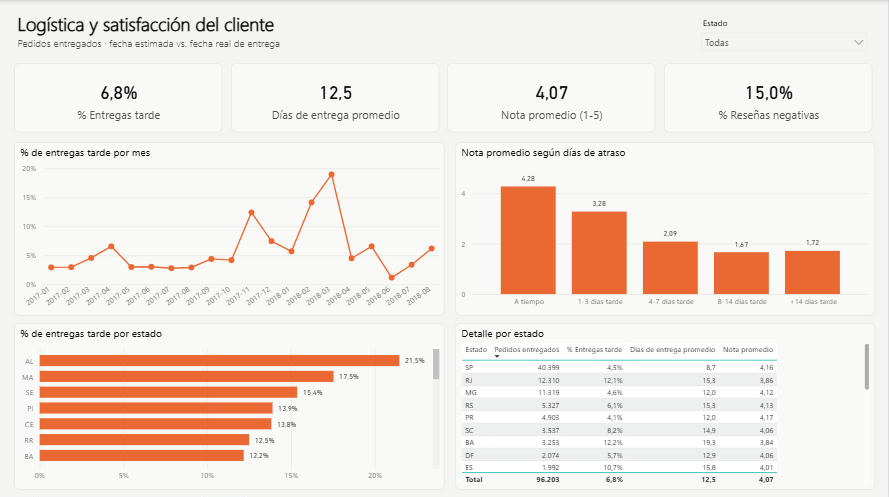

This screenshot's page, from the dashboard's own definition file:
{"tool":"powerbi","page":{"name":"Logística y satisfacción","canvas":[1280,720],"ordinal":1},"visuals":[{"type":"textbox","box":[20,10,900,70],"z":1000},{"type":"slicer","fields":{"Values":["orders.customer_state"]},"box":[1000,18,260,60],"z":2000},{"type":"card","title":"% Entregas tarde","fields":{"Values":["_Medidas.% Entregas tarde"]},"box":[20,90,300,100],"z":3000},{"type":"card","title":"Días de entrega promedio","fields":{"Values":["_Medidas.Días de entrega promedio"]},"box":[332,90,300,100],"z":4000},{"type":"card","title":"Nota promedio (1-5)","fields":{"Values":["_Medidas.Nota promedio"]},"box":[644,90,300,100],"z":5000},{"type":"card","title":"% Reseñas negativas","fields":{"Values":["_Medidas.% Reseñas negativas"]},"box":[956,90,300,100],"z":6000},{"type":"lineChart","title":"% de entregas tarde por mes","fields":{"Category":["Calendario.Mes"],"Y":["_Medidas.% Entregas tarde"]},"box":[20,205,620,250],"z":7000},{"type":"clusteredColumnChart","title":"Nota promedio según días de atraso","fields":{"Category":["orders.delay_bucket"],"Y":["_Medidas.Nota promedio entregados"]},"box":[655,205,605,250],"z":8000},{"type":"clusteredBarChart","title":"% de entregas tarde por estado","fields":{"Category":["orders.customer_state"],"Y":["_Medidas.% Entregas tarde"]},"box":[20,465,620,240],"z":9000},{"type":"tableEx","title":"Detalle por estado","fields":{"Values":["orders.customer_state","_Medidas.Pedidos entregados","_Medidas.% Entregas tarde","_Medidas.Días de entrega promedio","_Medidas.Nota promedio"]},"box":[655,465,605,240],"z":10000}]}

Visuals, with their boxes in screenshot pixels (x1, y1, x2, y2), scaled from the page's 1280x720 canvas onto the 889x497 screenshot:
textbox: (left=14, top=7, right=639, bottom=55)
slicer - orders.customer_state: (left=695, top=12, right=875, bottom=54)
"% Entregas tarde" card: (left=14, top=62, right=222, bottom=131)
"Días de entrega promedio" card: (left=231, top=62, right=439, bottom=131)
"Nota promedio (1-5)" card: (left=447, top=62, right=656, bottom=131)
"% Reseñas negativas" card: (left=664, top=62, right=872, bottom=131)
"% de entregas tarde por mes" lineChart: (left=14, top=142, right=444, bottom=314)
"Nota promedio según días de atraso" clusteredColumnChart: (left=455, top=142, right=875, bottom=314)
"% de entregas tarde por estado" clusteredBarChart: (left=14, top=321, right=444, bottom=487)
"Detalle por estado" tableEx: (left=455, top=321, right=875, bottom=487)
